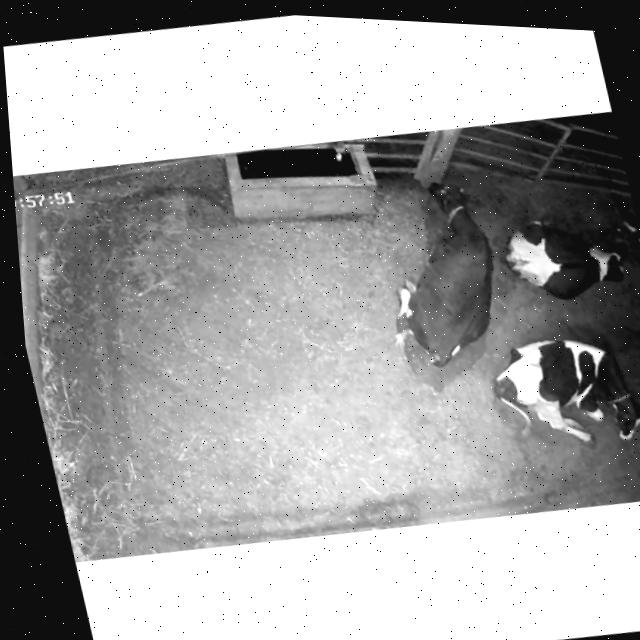lay: (355, 158, 526, 378), (485, 315, 640, 472), (491, 187, 640, 319)
